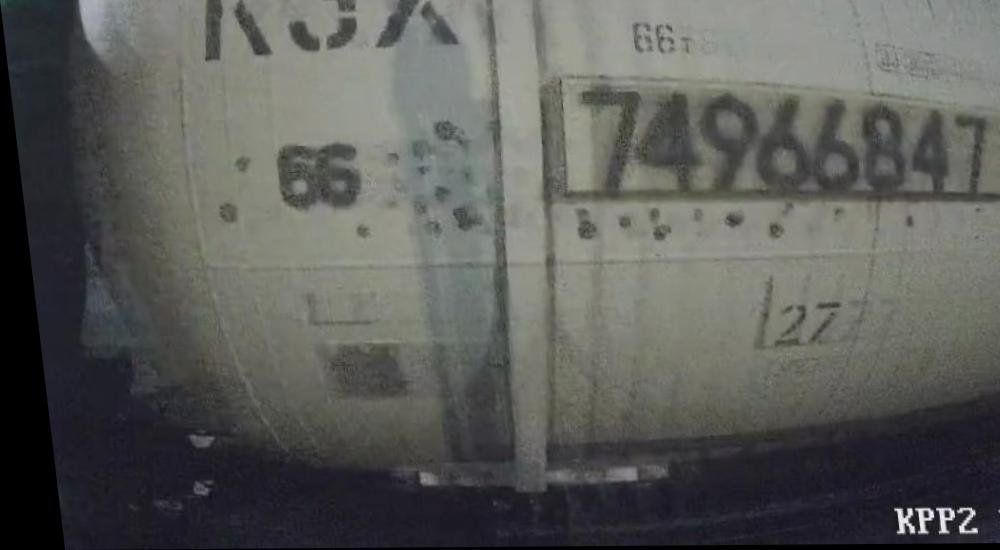Wagon-number: (565, 82, 997, 204)
